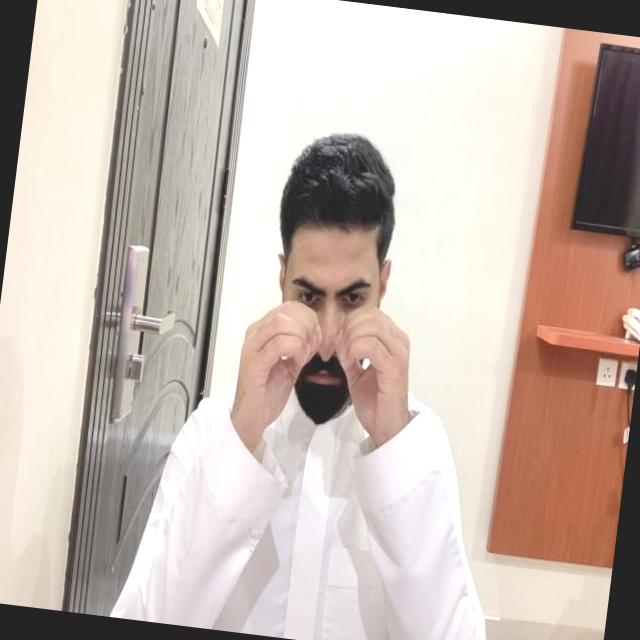analysis: (223, 285, 429, 454)
